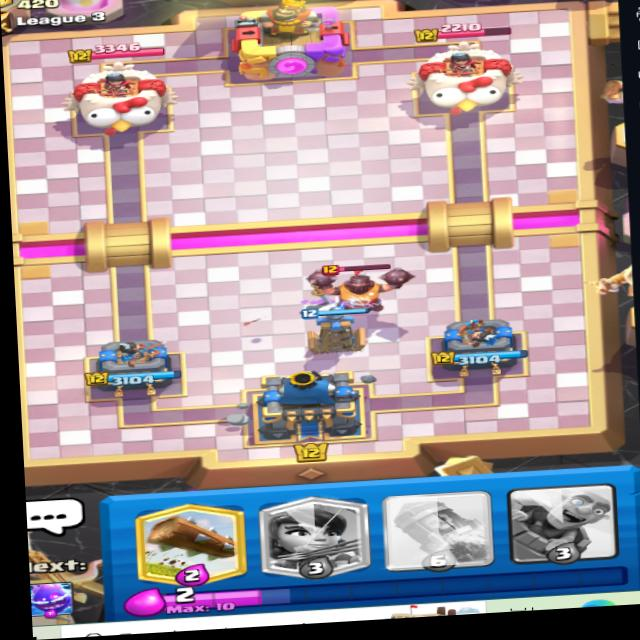mega-knight: (308, 257, 414, 321)
